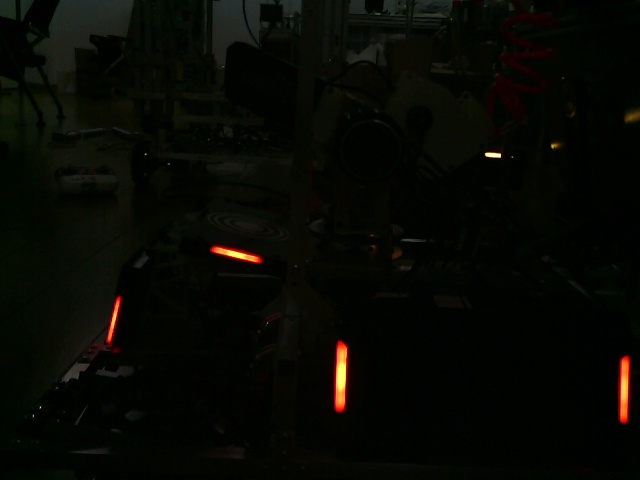lamp: (329, 340, 353, 413), (614, 357, 636, 428), (107, 294, 127, 350)
